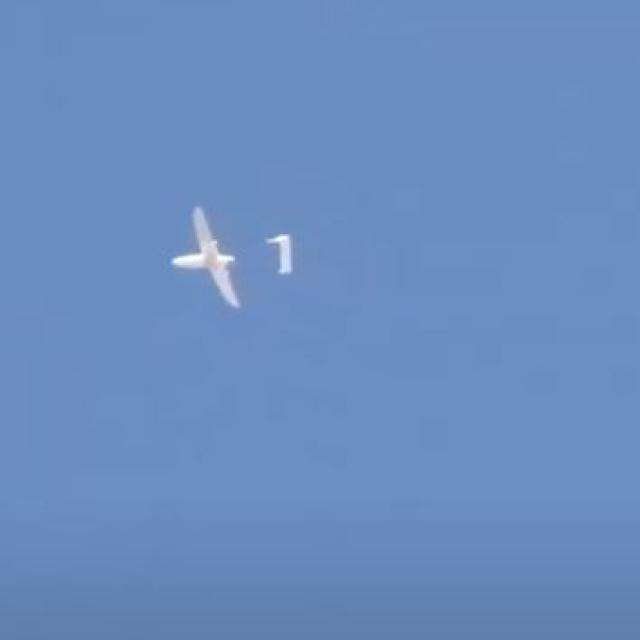iha: (201, 237, 261, 278)
